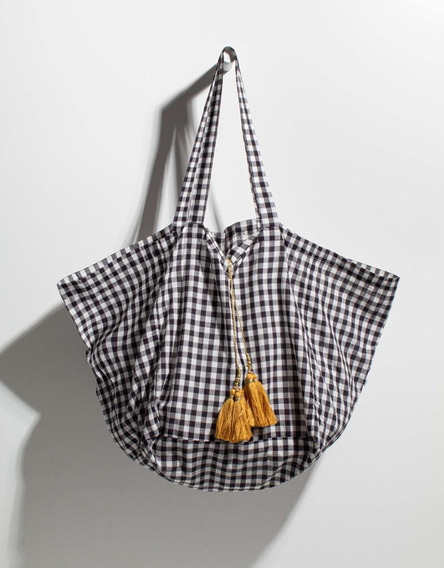cartera: (56, 46, 400, 493)
